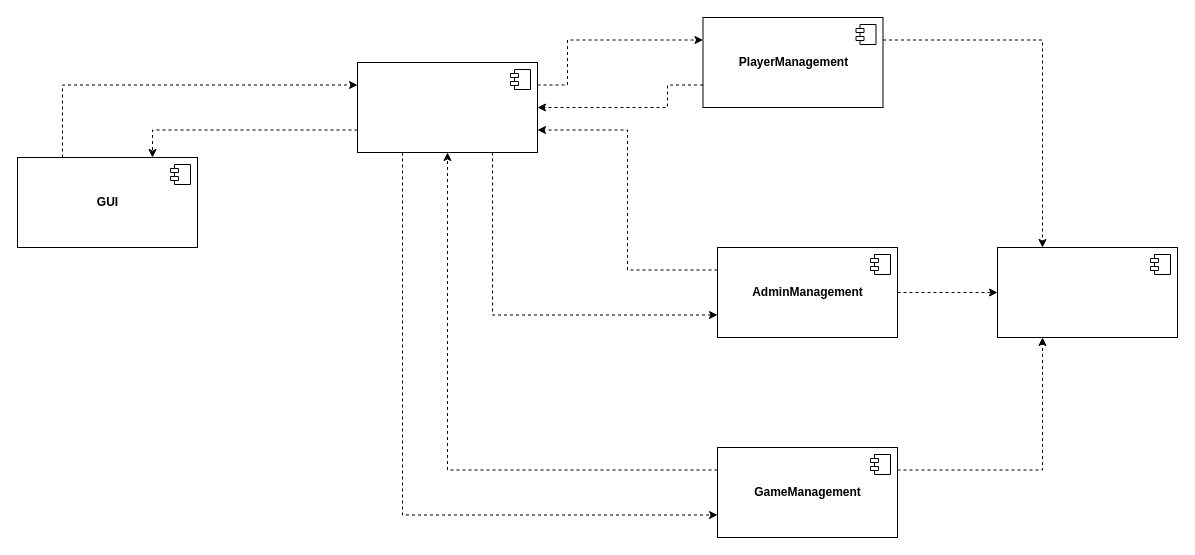
The diagram is 1195 pixels wide and 555 high, and some of its shapes have lost their labels. Here are the shapes that lost their labels. From the top down, the centre of each, then its label:
At pixel 447 107: "Android".
At pixel 1087 292: "Database".
